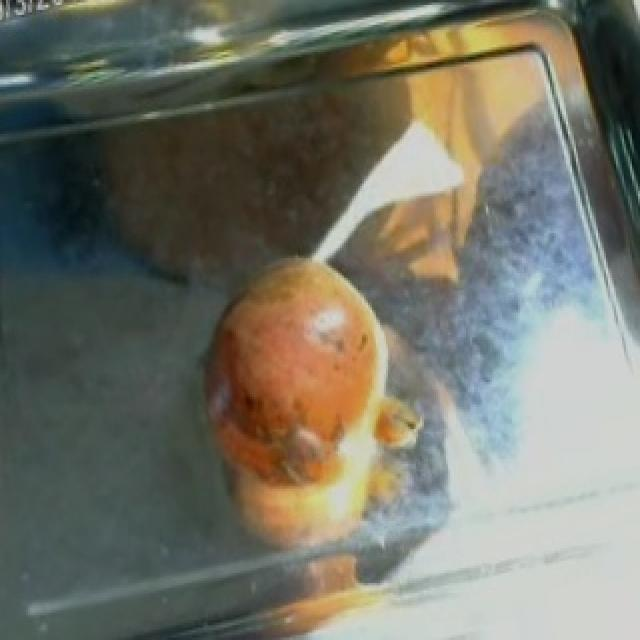fruit: (184, 231, 414, 496)
